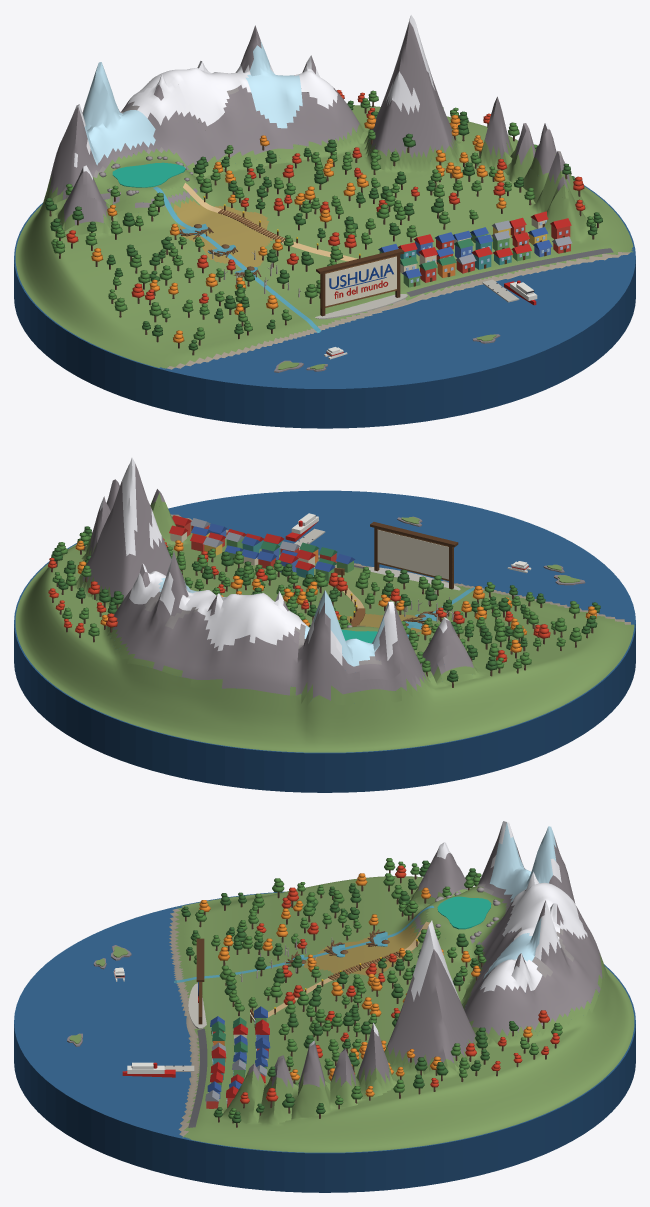
Rendered from ushuaia.glb.
The picture shows the model from 3 angles, top to bottom: view 1: azimuth 30°, elevation 25°; view 2: azimuth 150°, elevation 25°; view 3: azimuth 270°, elevation 25°; orthographic projection.
Parts seen in each view (by area): view 1: DECO-land, DECO-base, OBJ-mountains, DECO-lenga-forest, OBJ-laguna-esmeralda, houses, sign-panel, lake-water, avenue, DECO-stream, trail-path, sign-plaza; view 2: DECO-land, DECO-base, OBJ-mountains, DECO-lenga-forest, OBJ-laguna-esmeralda, houses, sign-panel, sign-cap, islets; view 3: DECO-land, DECO-base, OBJ-mountains, DECO-lenga-forest, OBJ-laguna-esmeralda, houses, lake-water, avenue, ship, DECO-stream.
Part boxes in pixels (x1,y1,x2,y2): DECO-land: (15, 105, 633, 369); DECO-base: (14, 179, 635, 428); OBJ-mountains: (47, 15, 573, 230); DECO-lenga-forest: (44, 90, 602, 355); OBJ-laguna-esmeralda: (52, 62, 214, 209); houses: (378, 211, 572, 287); sign-panel: (325, 256, 396, 306); lake-water: (112, 162, 185, 187); avenue: (406, 248, 613, 296); DECO-stream: (153, 186, 320, 332); trail-path: (183, 182, 357, 261); sign-plaza: (315, 294, 407, 319); DECO-land: (15, 501, 634, 752); DECO-base: (14, 490, 635, 792); OBJ-mountains: (80, 457, 477, 705); DECO-lenga-forest: (48, 526, 600, 687); OBJ-laguna-esmeralda: (273, 590, 453, 682); houses: (169, 515, 355, 583); sign-panel: (377, 530, 448, 579); sign-cap: (370, 522, 458, 547); islets: (397, 516, 585, 585); DECO-land: (169, 876, 634, 1152); DECO-base: (14, 891, 635, 1192); OBJ-mountains: (244, 847, 605, 1096); DECO-lenga-forest: (181, 858, 562, 1127); OBJ-laguna-esmeralda: (425, 821, 558, 956); houses: (205, 1006, 270, 1108); lake-water: (437, 896, 491, 929); avenue: (188, 1028, 207, 1127); ship: (122, 1062, 175, 1077); DECO-stream: (174, 905, 434, 983).
Size of the model in its own units: 2 by 0.7436 by 2.
